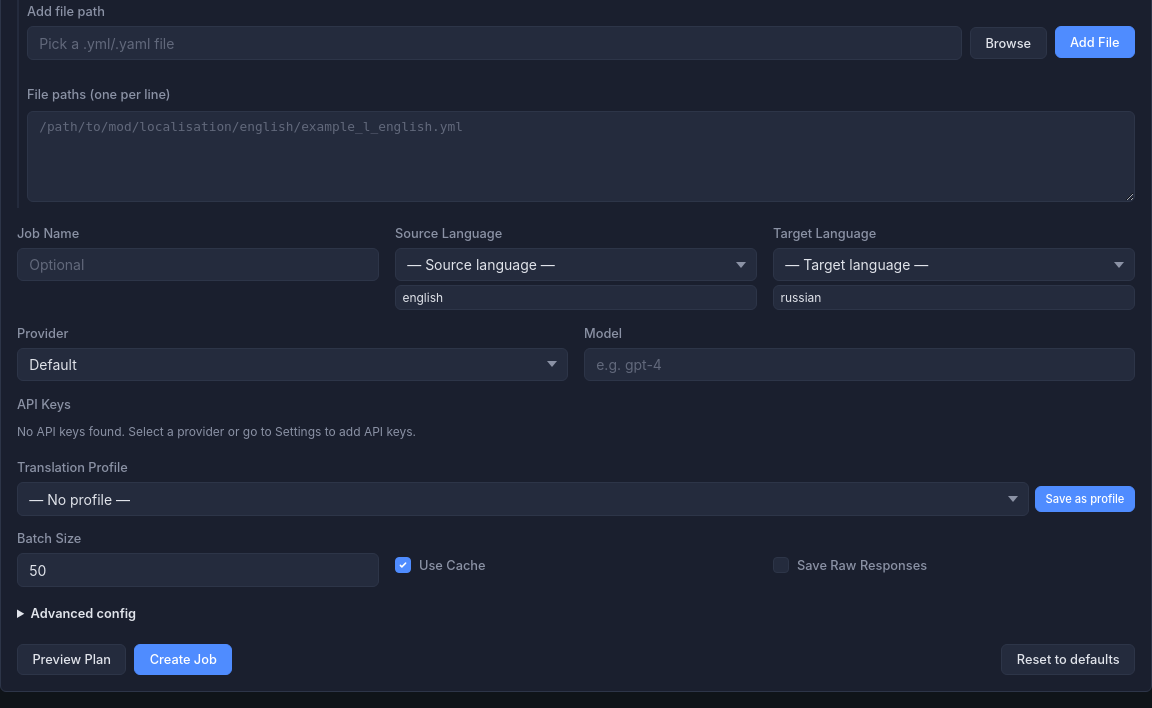
Test: CreateJobForm › advanced config section › renders rule set selector with builtin rule set pre-selected
(page scrolled)
Click the heading "Advanced config": click(83, 614) [30,606,136,621]
(page scrolled)
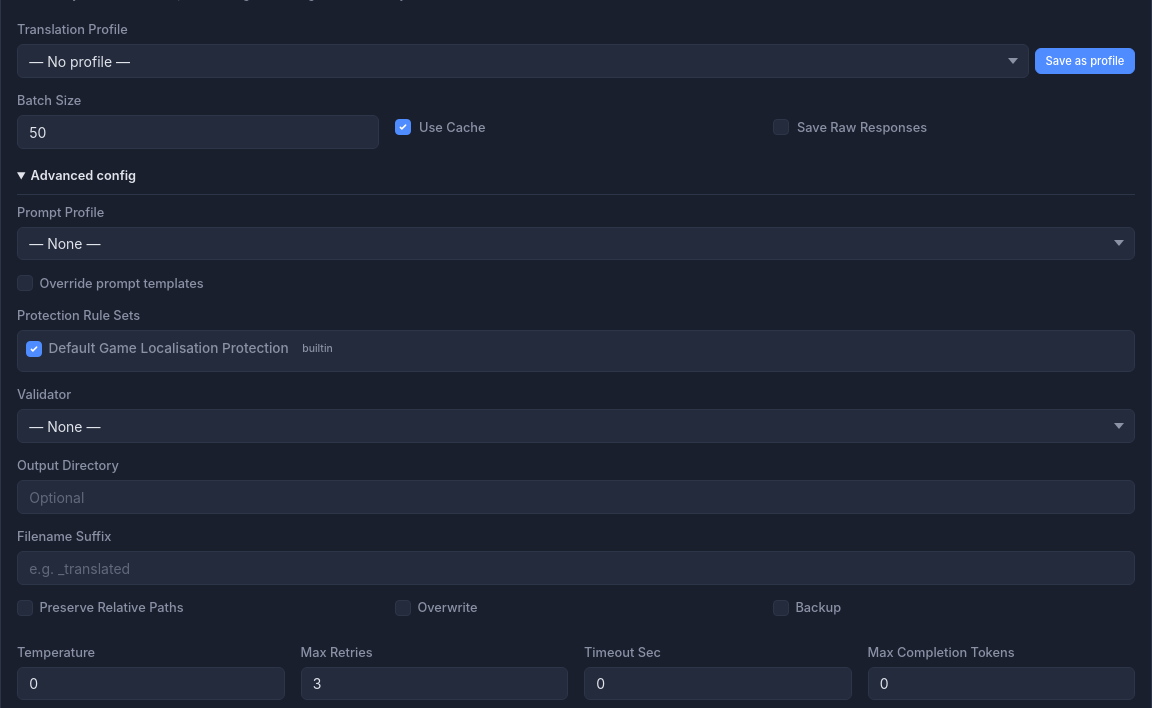
Result: the text "Default Game Localisation Protection" is shown at [48,338,289,359]
Result: the text "builtin" is shown at [298,340,338,357]
